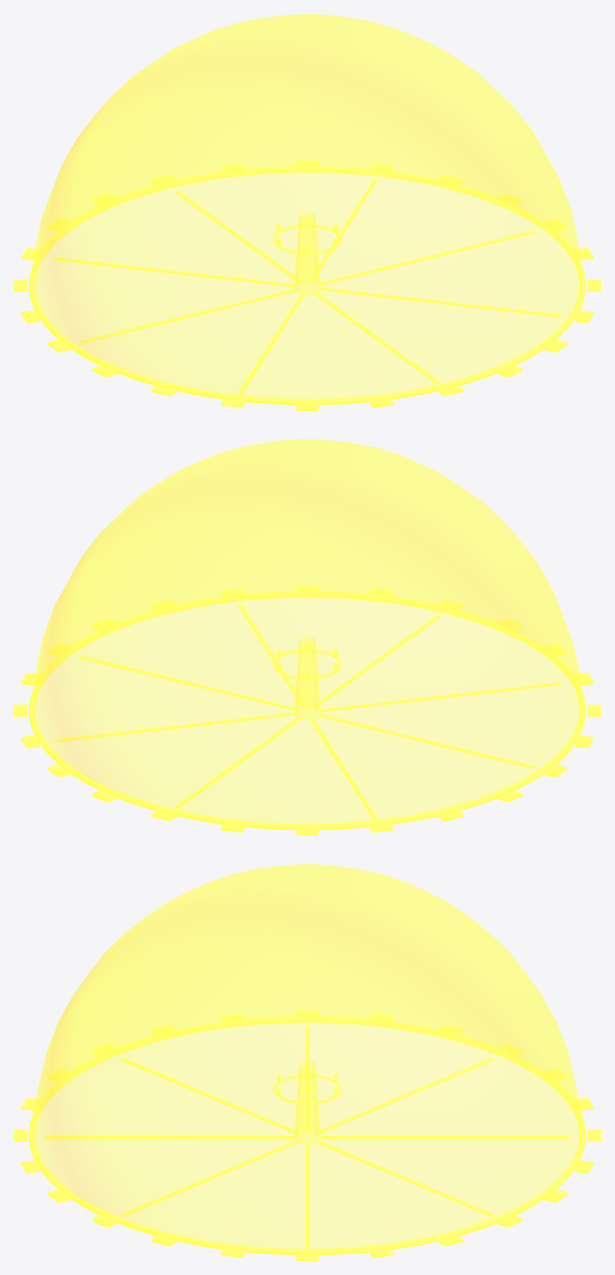
File: vfx_ability_overdrive.glb
The picture shows the model from 3 angles, top to bottom: view 1: azimuth 30°, elevation 25°; view 2: azimuth 150°, elevation 25°; view 3: azimuth 270°, elevation 25°; orthographic projection.
Parts seen in each view (by area): view 1: od_dome, od_ring, od_pillar, od_conduit1, od_conduit5, od_conduit4, od_conduit0, od_conduit2, od_conduit6, od_conduit3; view 2: od_dome, od_ring, od_pillar, od_conduit3, od_conduit7, od_conduit4, od_conduit0, od_conduit6, od_conduit2, od_conduit5; view 3: od_dome, od_ring, od_pillar, od_conduit2, od_conduit6, od_conduit1, od_conduit7, od_conduit3, od_conduit5, od_conduit0.
Part boxes in pixels (x1,y1,x2,y2): od_dome: (33,14,581,405); od_ring: (28,166,586,404); od_pillar: (294,211,320,294); od_conduit1: (320,287,560,317); od_conduit5: (54,257,293,286); od_conduit4: (80,289,296,343); od_conduit0: (319,231,535,285); od_conduit2: (312,291,440,383); od_conduit6: (175,190,301,282); od_conduit3: (238,292,305,394); od_dome: (33,439,581,830); od_ring: (28,591,586,829); od_pillar: (294,636,320,719); od_conduit3: (321,682,560,711); od_conduit7: (54,712,294,742); od_conduit4: (318,714,534,768); od_conduit0: (79,656,295,710); od_conduit6: (174,716,302,808); od_conduit2: (313,615,439,707); od_conduit5: (309,717,376,819); od_dome: (32,864,582,1253); od_ring: (28,1016,586,1254); od_pillar: (294,1061,320,1144); od_conduit2: (45,1136,293,1138); od_conduit6: (321,1136,569,1138); od_conduit1: (121,1140,298,1216); od_conduit7: (316,1140,493,1216); od_conduit3: (121,1058,298,1133); od_conduit5: (316,1058,493,1133); od_conduit0: (305,1142,309,1248).
Size of the model in its own units: 21.3 by 10 by 21.3.
